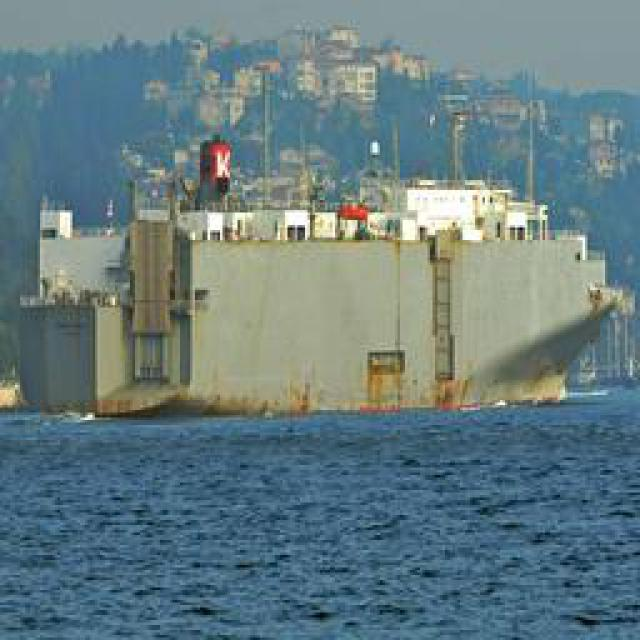Ship: (13, 81, 628, 431)
